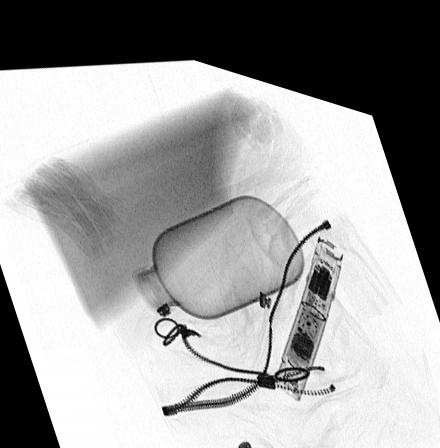Baton: (272, 215, 345, 384)
